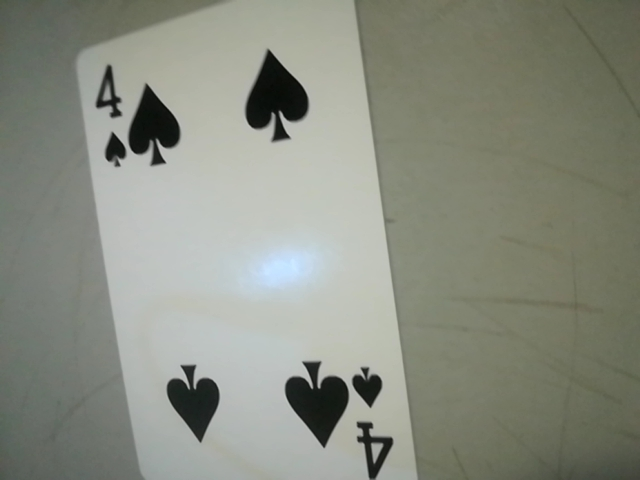ht 4: (341, 352, 408, 480)
